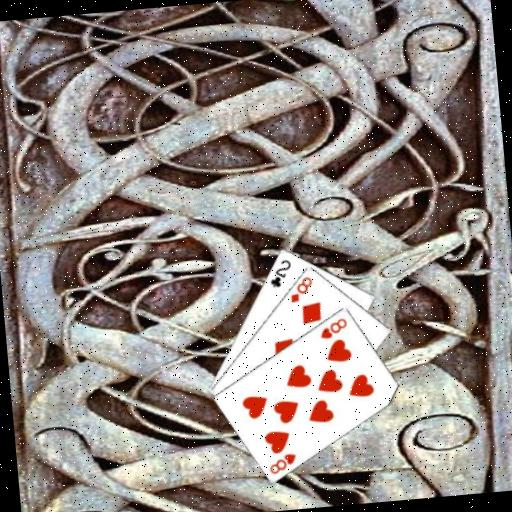2C: (266, 256, 295, 290)
8D: (285, 273, 315, 305)
8H: (316, 315, 350, 341), (265, 450, 299, 476)
